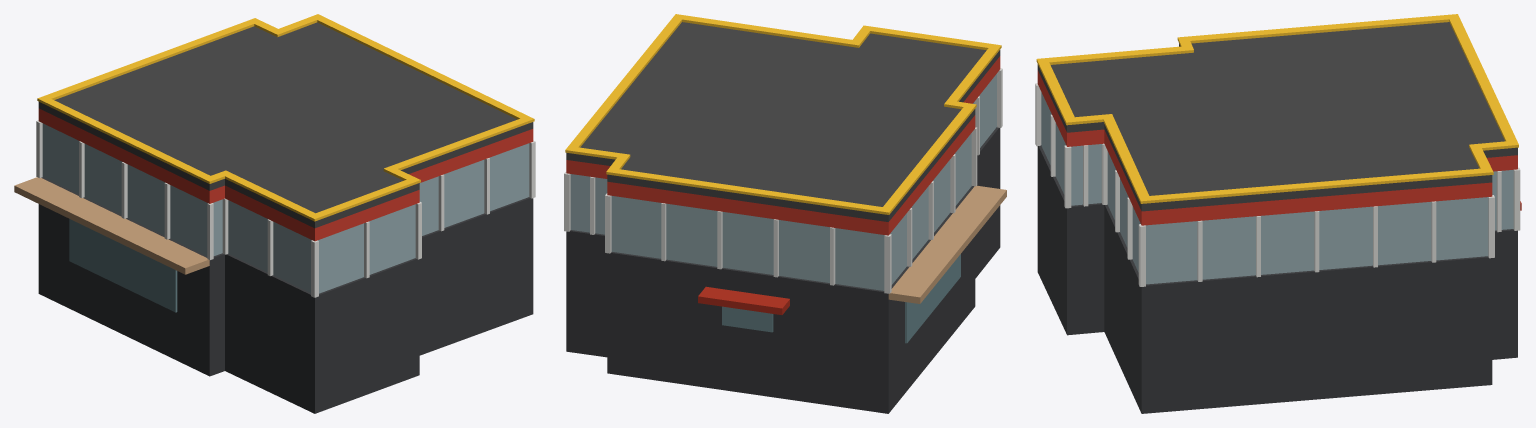
Rendered from mcdonalds-zhongqing.glb.
The picture shows the model from 3 angles, left to right: view 1: azimuth 30°, elevation 25°; view 2: azimuth 150°, elevation 25°; view 3: azimuth 270°, elevation 25°; orthographic projection. The views are drawn at different scales.
Visible parts, largest first — view 1: mcdonalds-zhongqing; view 2: mcdonalds-zhongqing; view 3: mcdonalds-zhongqing.
Boxes of the visible parts, x1,y1,x2,y2 form: mcdonalds-zhongqing: (14, 14, 535, 413); mcdonalds-zhongqing: (564, 14, 1006, 413); mcdonalds-zhongqing: (1035, 14, 1521, 413).
Size of the model in its own units: 24.39 by 12 by 24.81.
